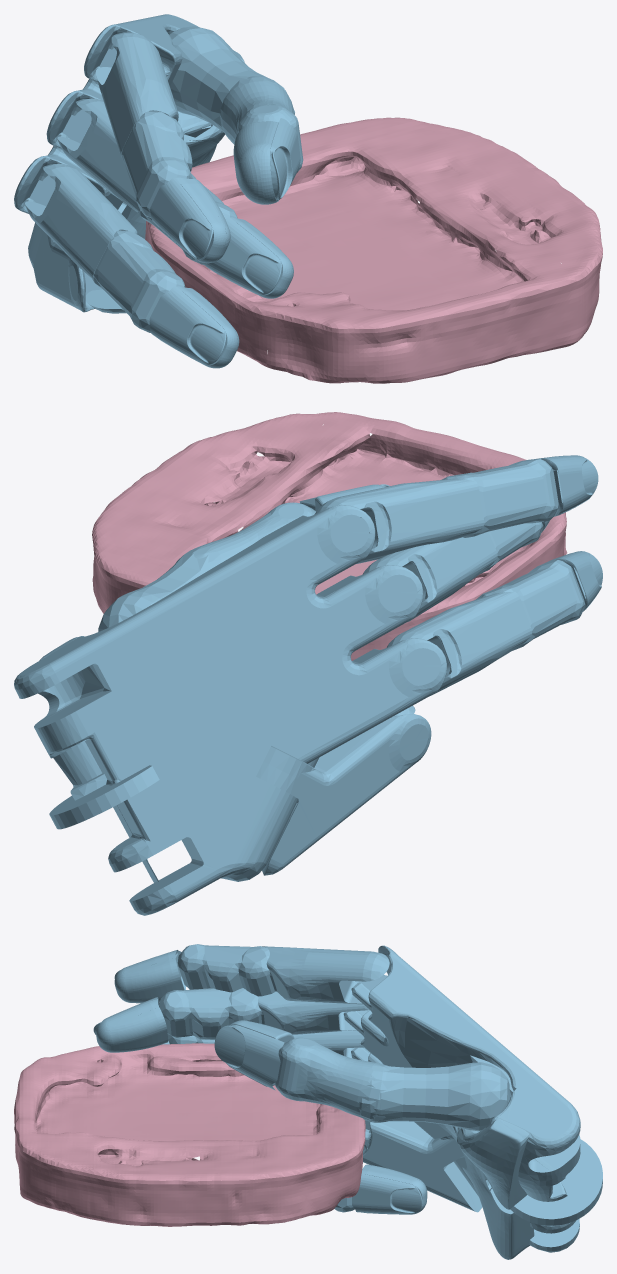
The picture shows the model from 3 angles, top to bottom: view 1: azimuth 30°, elevation 25°; view 2: azimuth 150°, elevation 25°; view 3: azimuth 270°, elevation 25°; orthographic projection. The views are drawn at different scales.
Parts seen in each view (by area): view 1: world, hand; view 2: hand, world; view 3: hand, world.
Boxes of the visible parts, bbox=[...] form: world: bbox=[145, 117, 602, 383]; hand: bbox=[14, 14, 303, 368]; hand: bbox=[14, 455, 602, 915]; world: bbox=[92, 412, 567, 660]; hand: bbox=[93, 944, 602, 1259]; world: bbox=[14, 1043, 365, 1226].
Size of the model in its own units: 0.1453 by 0.1131 by 0.2203.
